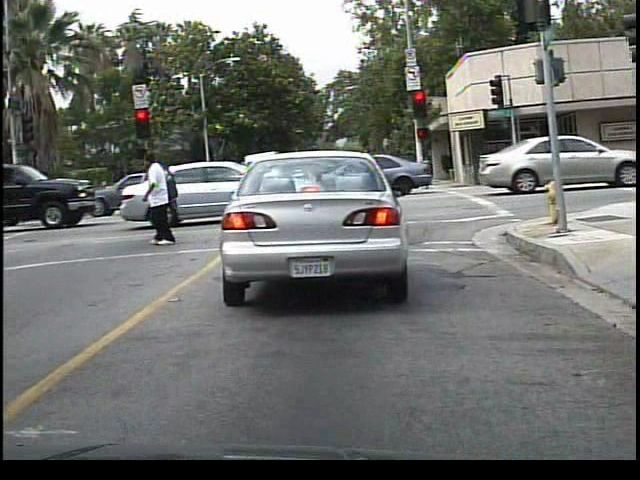person: (139, 151, 194, 248)
